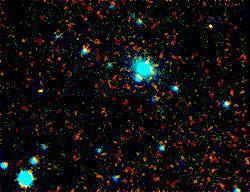star: (25, 80, 55, 110)
